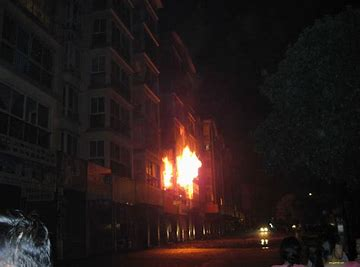fire: (164, 132, 202, 201)
